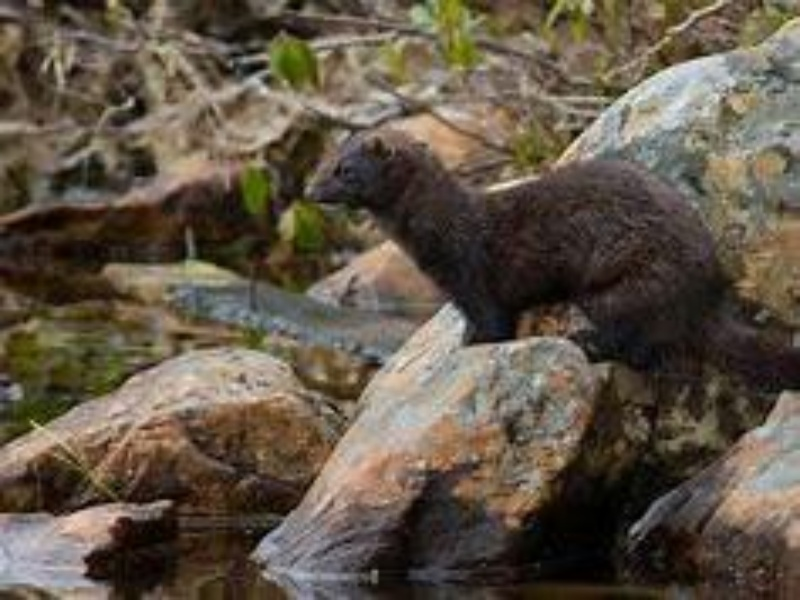minkish: (300, 128, 800, 387)
